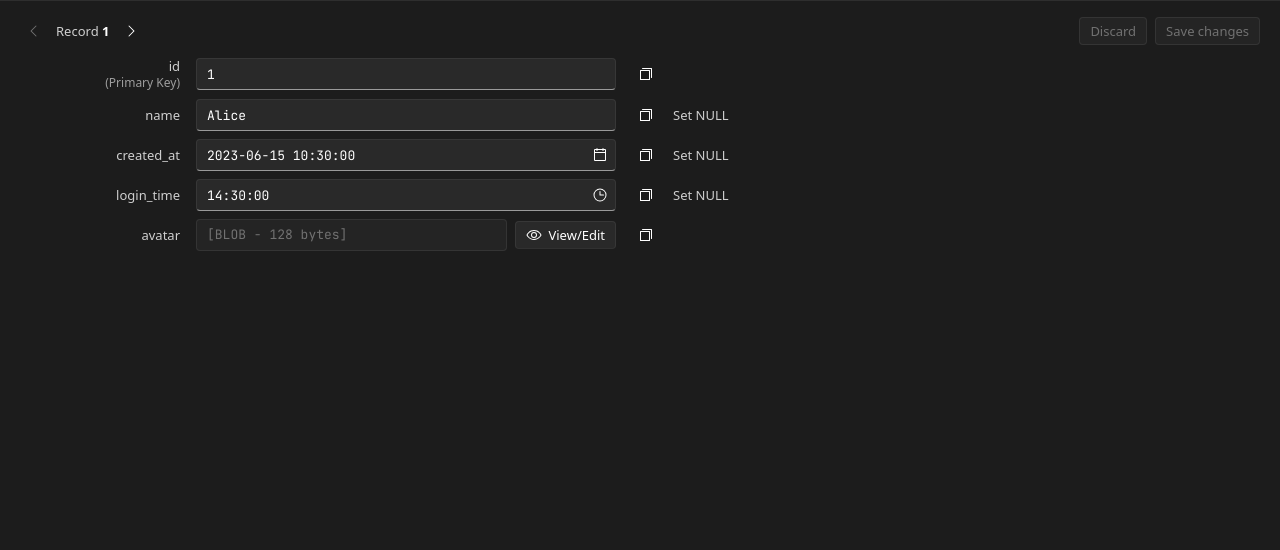
it: TableDataFormView — DateTimePicker integration › clicking the calendar icon opens the DateTimePicker
The image size is (1280, 550).
Click the button with test id "calendar-btn-created_at". click: (600, 155)
box: [586,141,614,169]
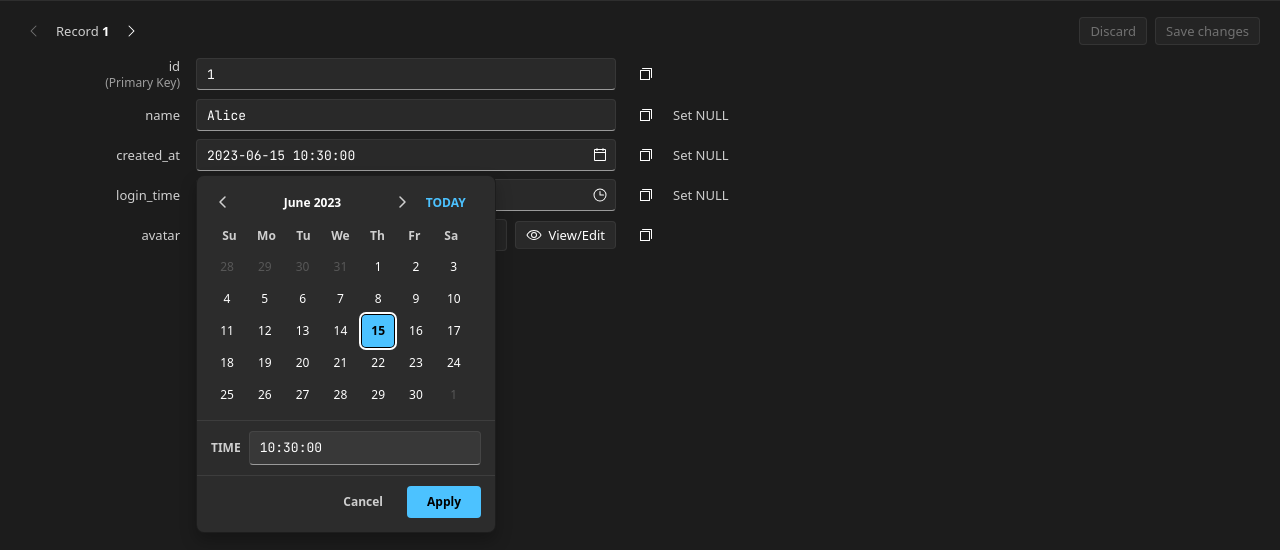
Expected: the element with test id "date-time-picker-popup" is shown, [196,175,496,533]
